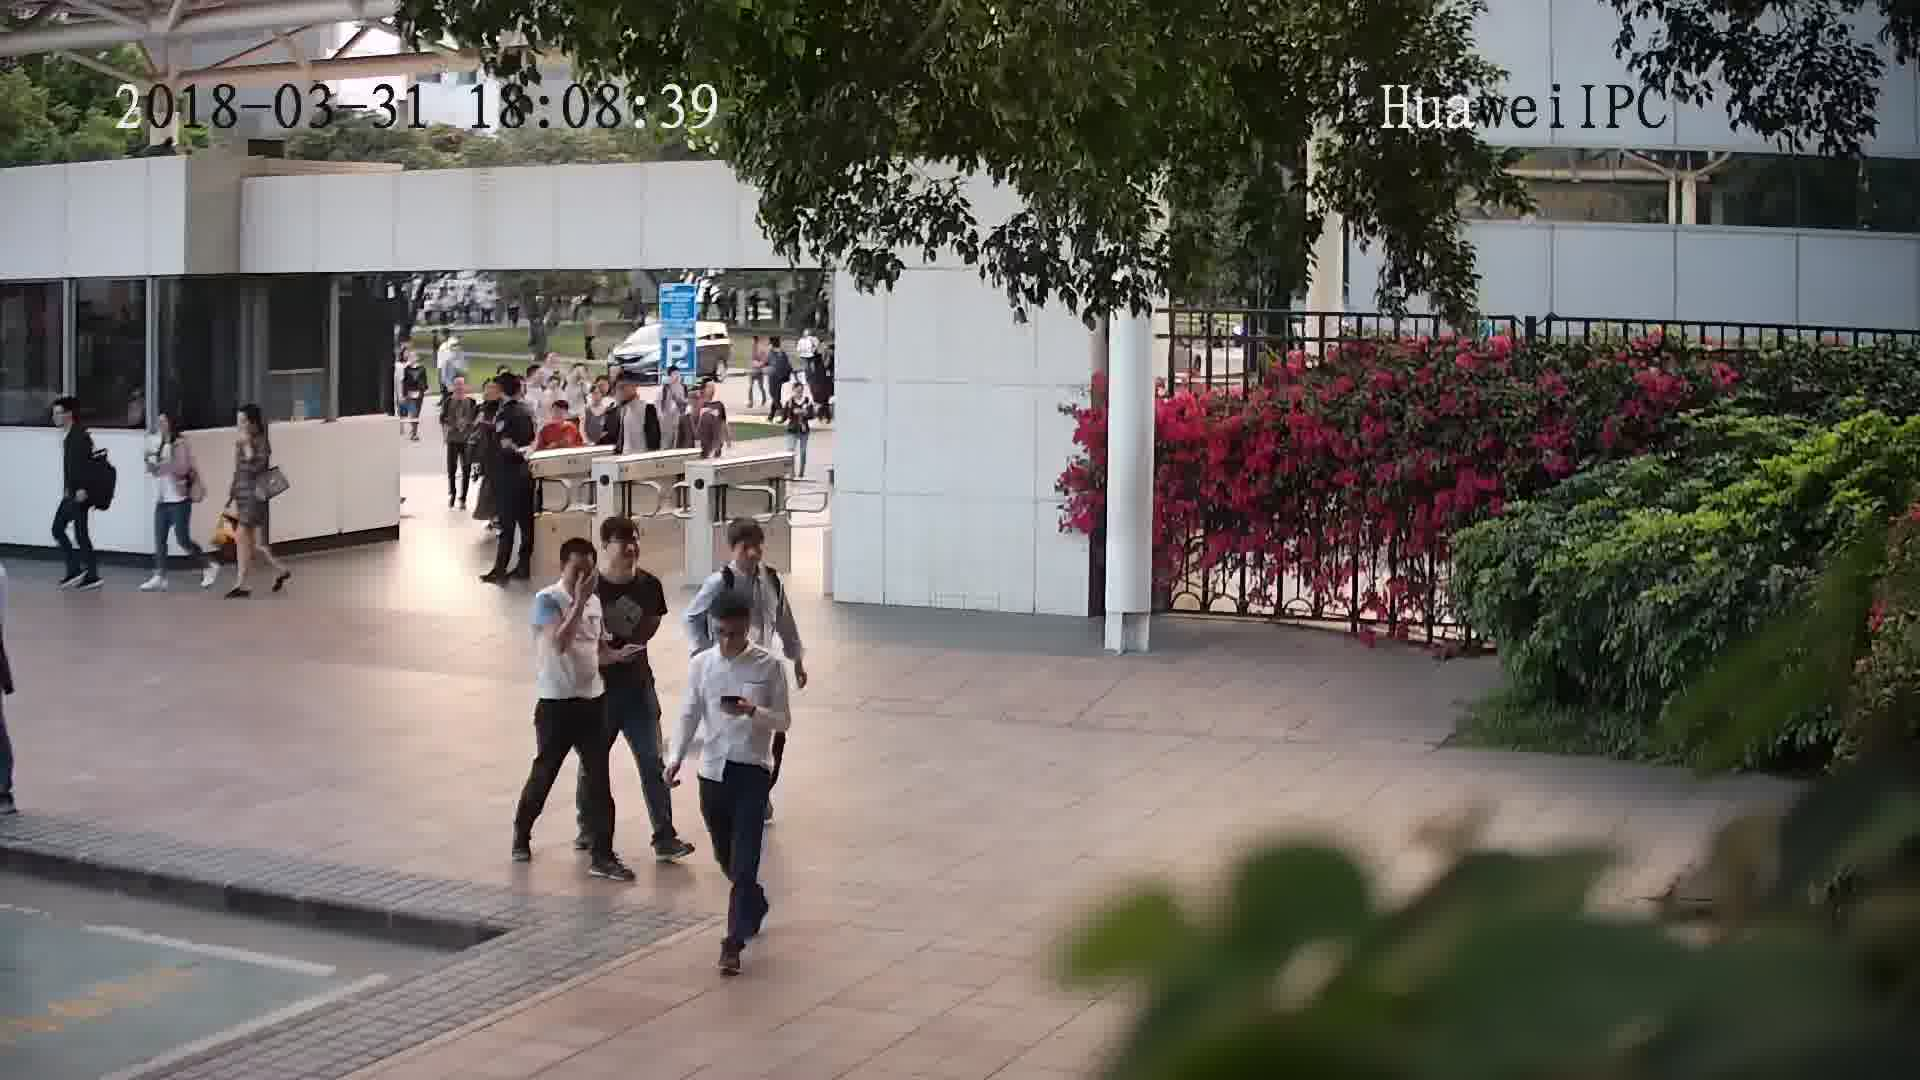face: (709, 613, 754, 658), (604, 531, 643, 572), (555, 551, 594, 592)
person: (688, 586, 787, 684), (701, 517, 783, 597), (584, 515, 661, 600), (533, 531, 601, 617), (233, 397, 277, 457), (489, 368, 535, 422), (56, 391, 96, 452), (153, 404, 194, 453), (538, 393, 582, 432), (679, 391, 723, 430), (581, 379, 620, 419), (438, 368, 475, 410), (782, 379, 815, 408), (396, 346, 426, 375)
